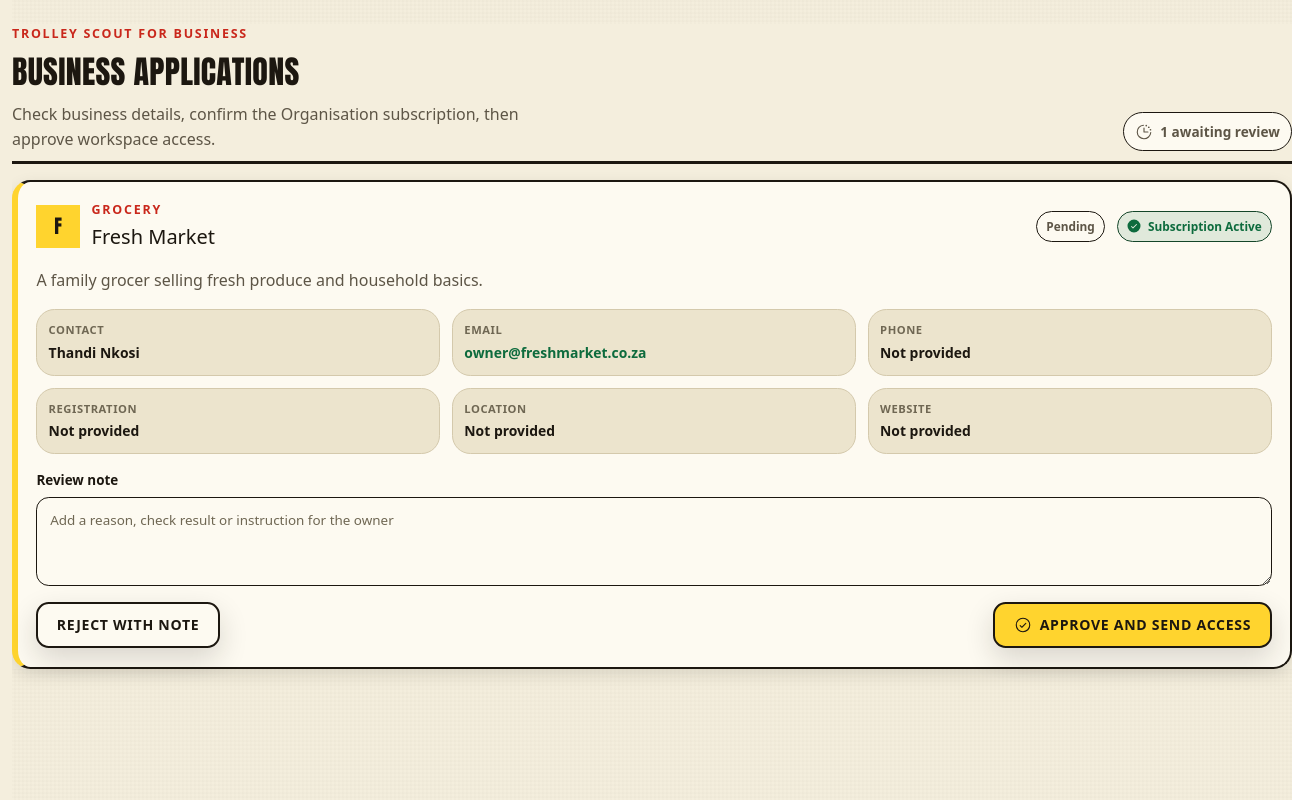
Scenario: business application admin review › approves a subscribed applicant and reports the email
Expected: the heading "Fresh Market" is shown, x1=92 y1=221 x2=215 y2=252
Click the button "Approve and send access": (1132, 625) x1=993 y1=602 x2=1272 y2=648
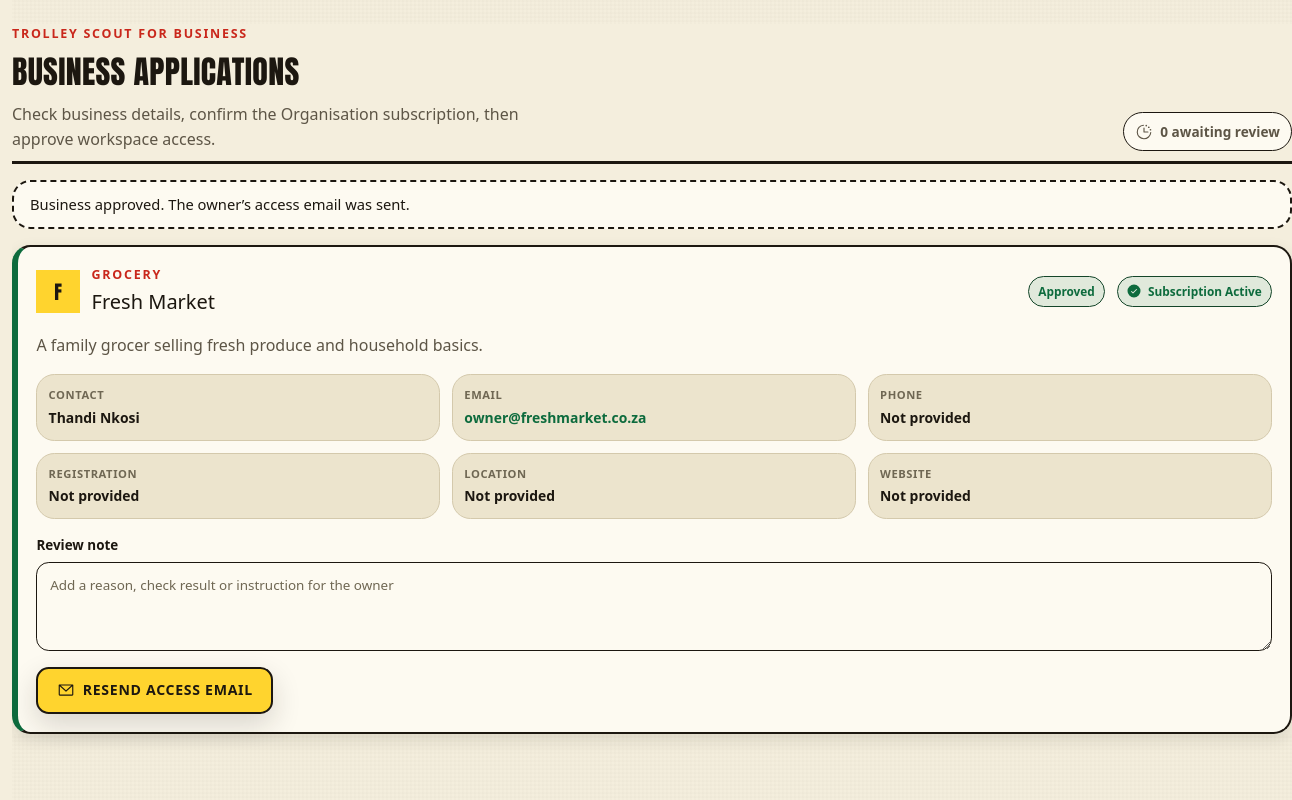
Expected: the text "Business approved. The owner’s access email was sent." is shown, x1=12 y1=180 x2=1291 y2=229
